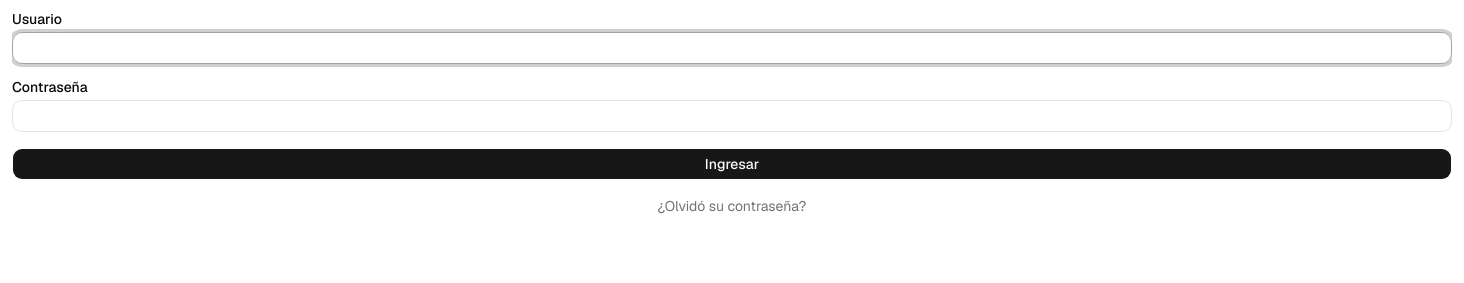
FormularioLogin › muestra el mensaje del servidor cuando rechaza las credenciales
The width and height of the screenshot is (1464, 283).
Type "admin" into the field labelled "Usuario" at (732, 48), box [12,32,1452,64]
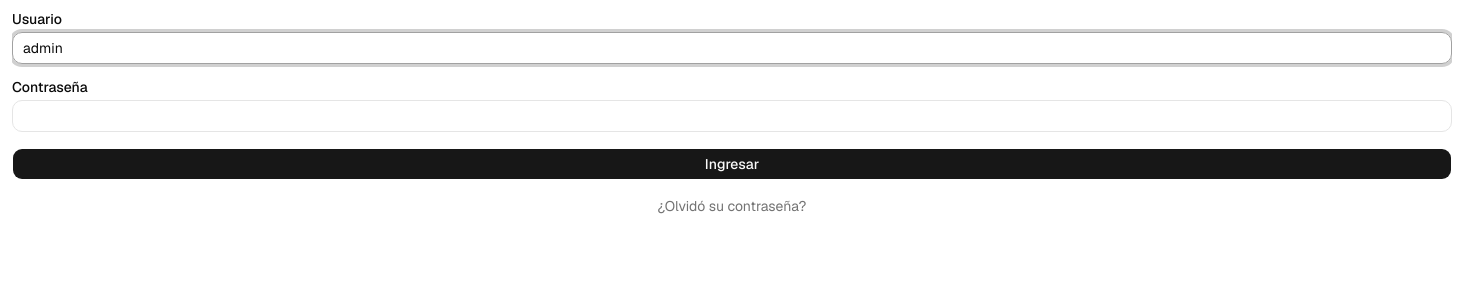
Type "incorrecta" into the password field labelled "Contraseña" at (732, 116), box [12,100,1452,132]
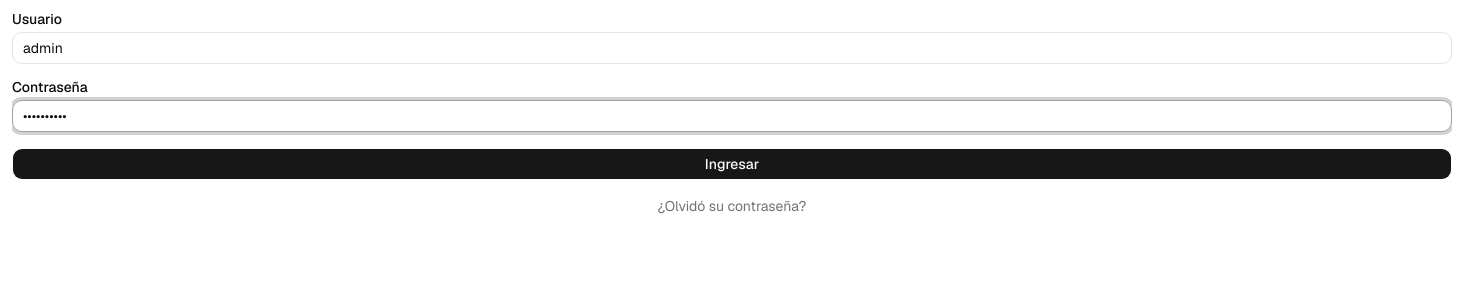
Click the button "Ingresar" at (732, 164), box [12,148,1452,180]
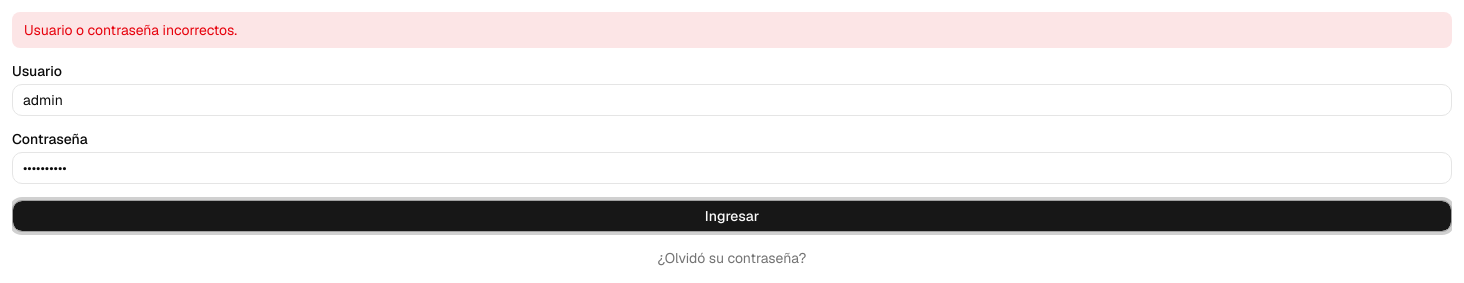
Now the message reads "Usuario o contraseña incorrectos.", box [24,21,237,39]
